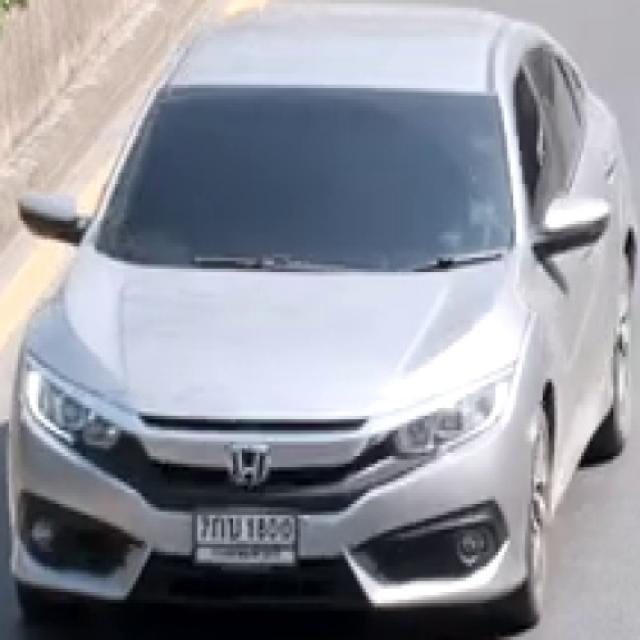plate: (195, 509, 298, 567)
